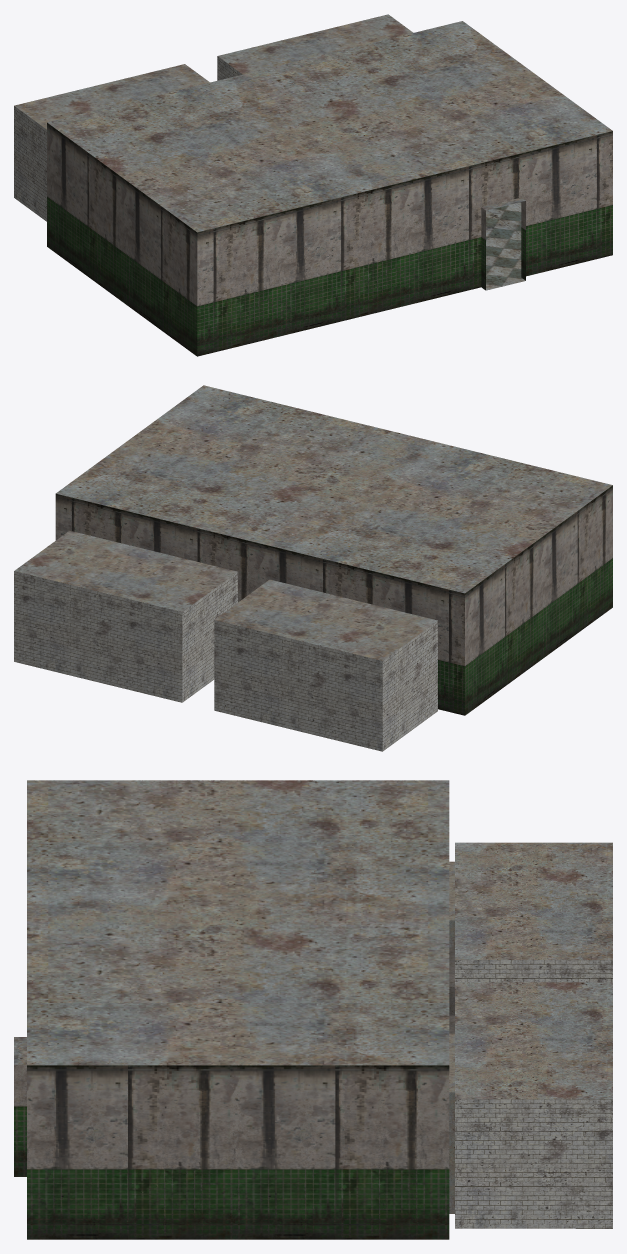
File: _Room_12.FBX
3 renders of one model, top to bottom at view 1: azimuth 30°, elevation 25°; view 2: azimuth 150°, elevation 25°; view 3: azimuth 270°, elevation 25°, orthographic. The views are drawn at different scales.
Parts seen in each view (by area): view 1: _Room_12; view 2: _Room_12; view 3: _Room_12.
Part boxes in pixels (x1,y1,x2,y2): _Room_12: (14, 14, 612, 356); _Room_12: (14, 385, 612, 751); _Room_12: (14, 780, 612, 1239).
Size of the model in its own units: 2480 by 708 by 2203.
8 materials, 8 textured.
